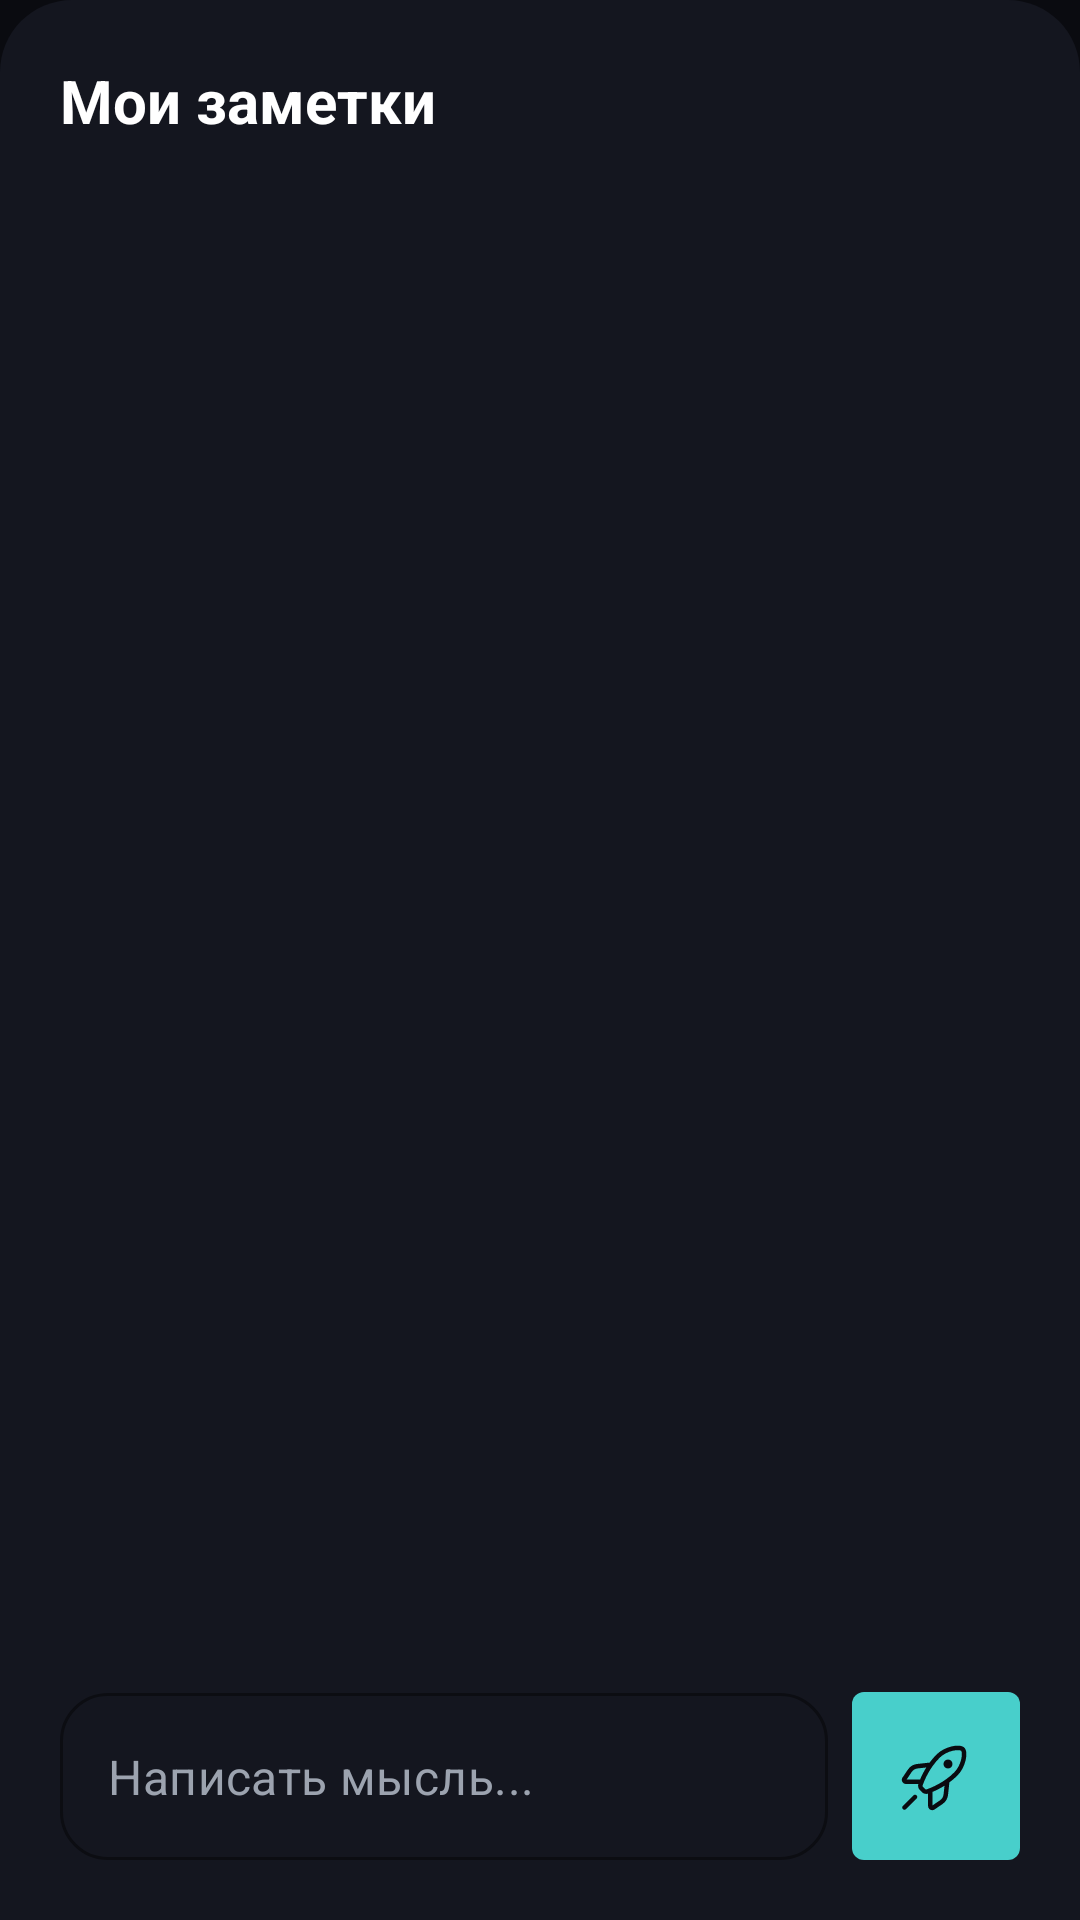

Icons on this 1080px×1920px Android screen, each with its box as [x1,y1,x2,y2]:
rocket reg: [852,1692,1020,1860]
